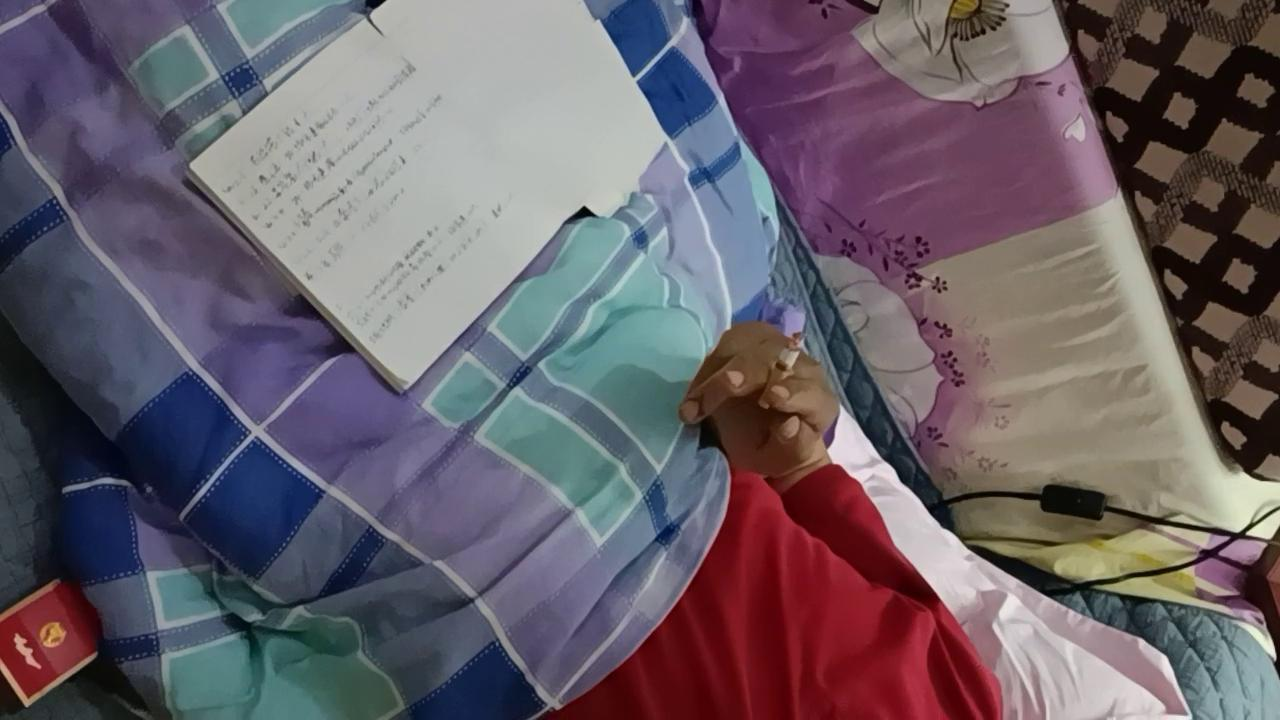smoke: (757, 334, 803, 411)
